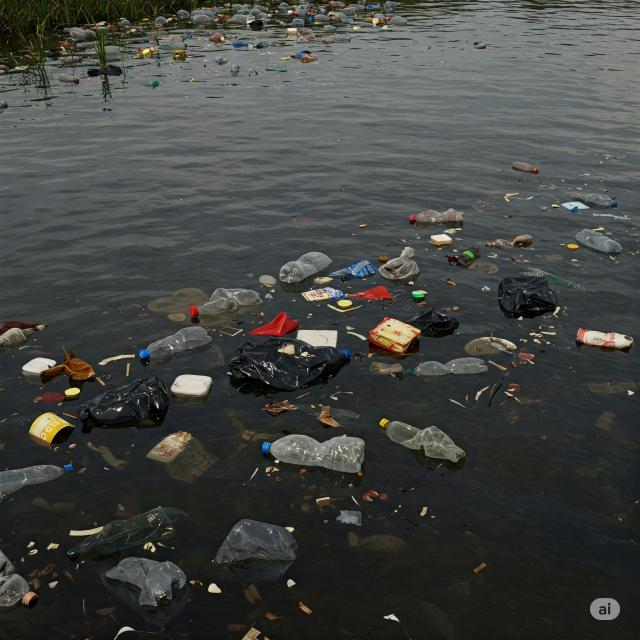plastic: (258, 427, 368, 476), (379, 408, 466, 468), (136, 327, 215, 365), (1, 462, 74, 490), (190, 287, 260, 316), (409, 209, 466, 226)
